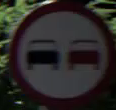No overtake: (9, 6, 109, 96)
